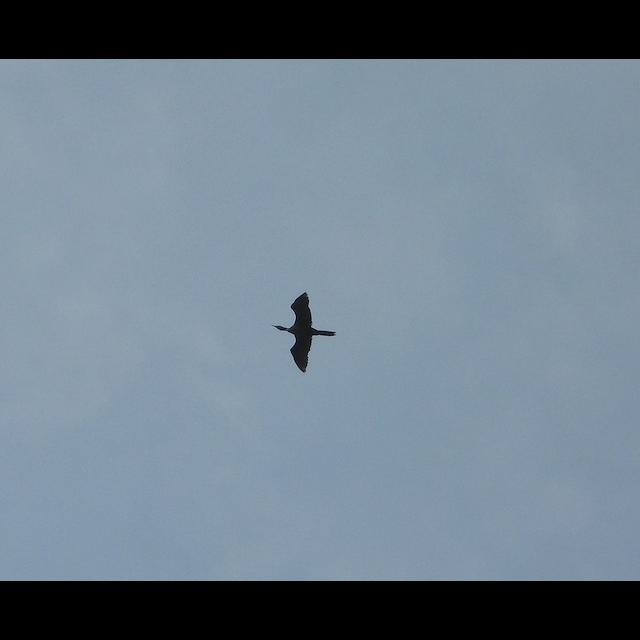cormorant: (268, 287, 336, 373)
